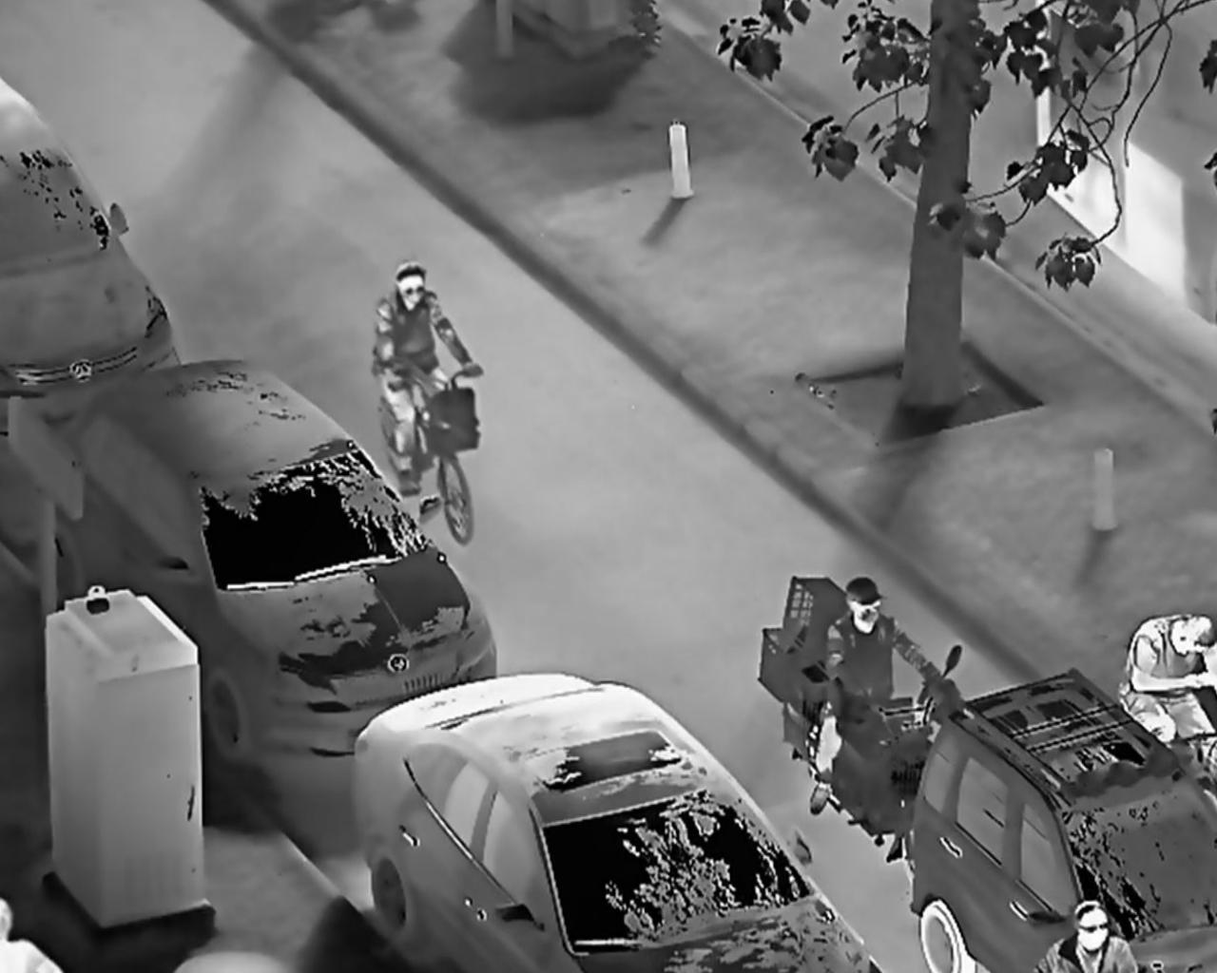person: (806, 575, 941, 814), (371, 255, 477, 505), (1108, 597, 1212, 743), (1030, 895, 1139, 973)
